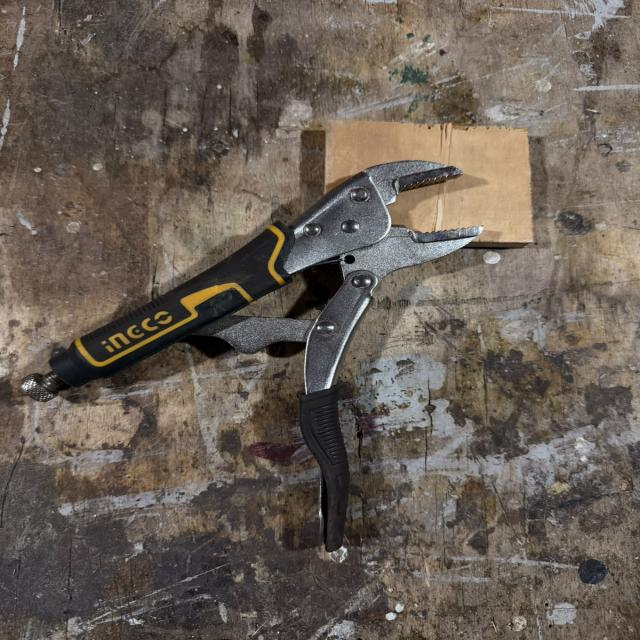PinzasPresion: (21, 96, 579, 576)
